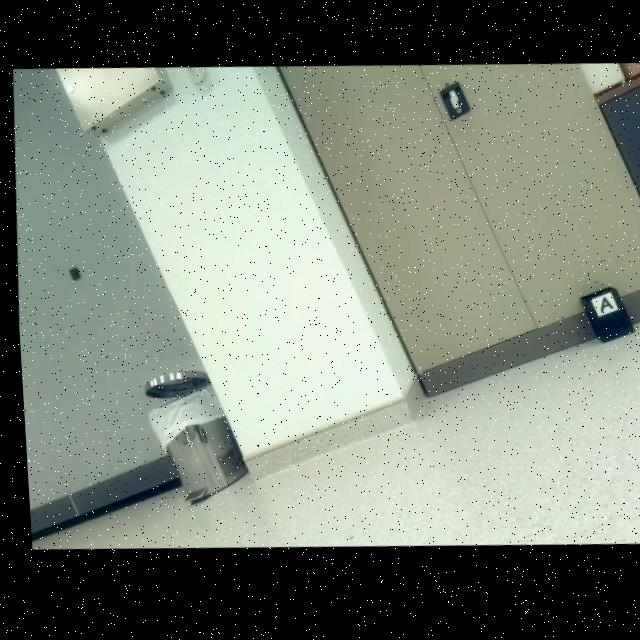A: (596, 302, 609, 319)
